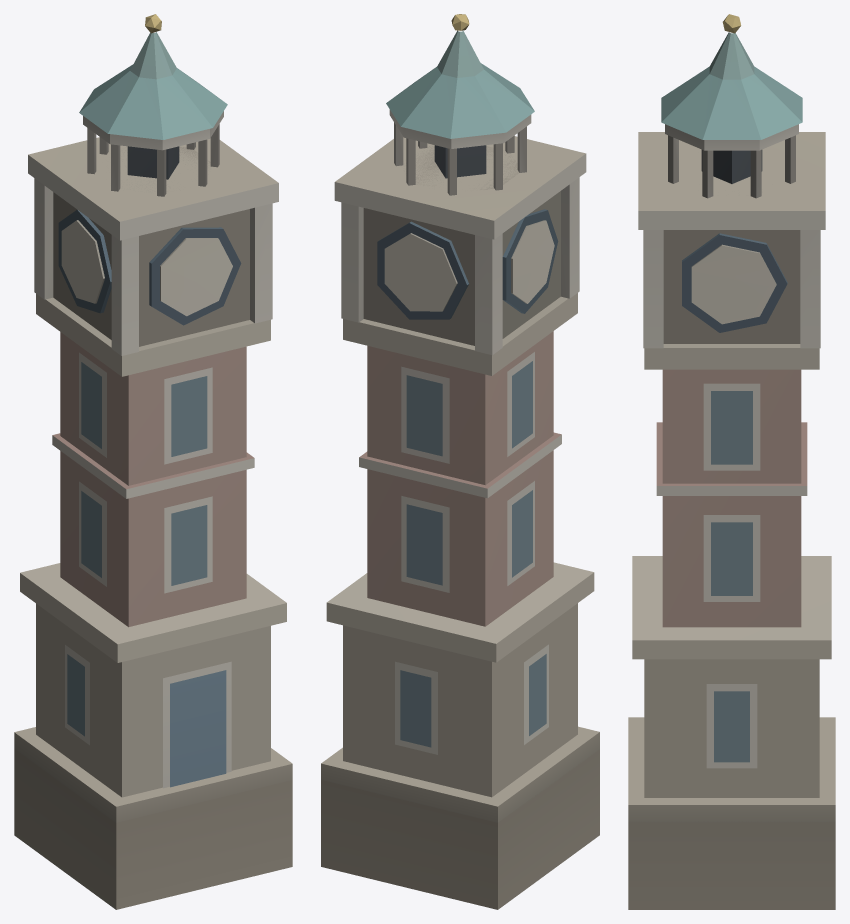
File: clock.lod2.glb
3 views of the same model, side by side, from view 1: azimuth 30°, elevation 25°; view 2: azimuth 150°, elevation 25°; view 3: azimuth 270°, elevation 25° (orthographic).
Bounding box in the file's own units: 3.44 × 15.54 × 3.44.
